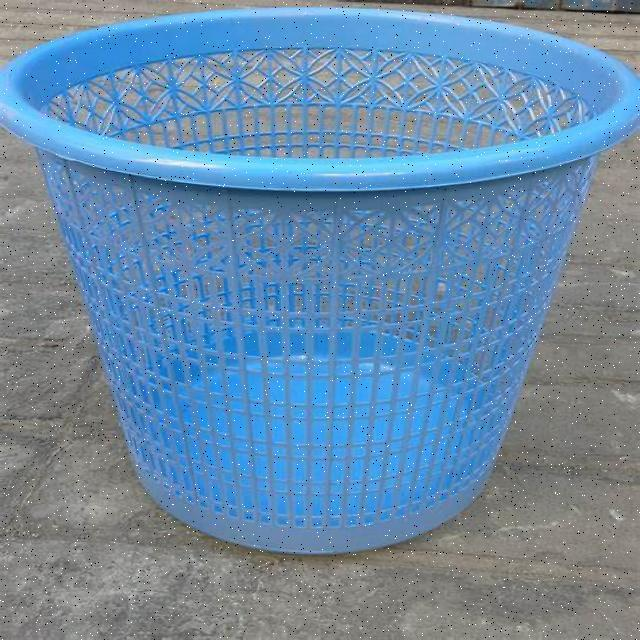garbage container: (1, 6, 635, 593)
